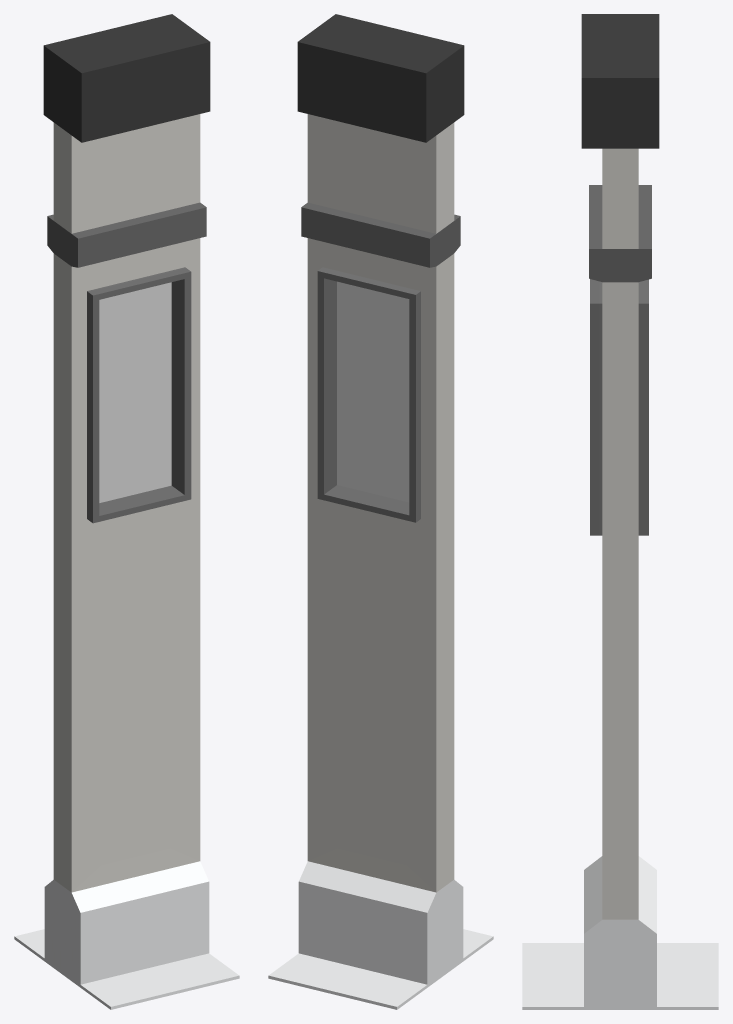
Rendered from Wall-Win-Hi-1sq.fbx.
3 views of the same model, side by side, from view 1: azimuth 30°, elevation 25°; view 2: azimuth 150°, elevation 25°; view 3: azimuth 270°, elevation 25° (orthographic).
Visible parts, largest first — view 1: Wall-Win-Hi-1sq, WinPane2sq.002, WinFrame2sq.002; view 2: Wall-Win-Hi-1sq, WinPane2sq.002, WinFrame2sq.002; view 3: Wall-Win-Hi-1sq, WinFrame2sq.002.
Boxes of the visible parts, bbox=[...] form: Wall-Win-Hi-1sq: bbox=[14, 14, 239, 1009]; WinPane2sq.002: bbox=[99, 282, 171, 502]; WinFrame2sq.002: bbox=[87, 267, 191, 523]; Wall-Win-Hi-1sq: bbox=[268, 14, 493, 1009]; WinPane2sq.002: bbox=[337, 281, 409, 502]; WinFrame2sq.002: bbox=[317, 267, 420, 522]; Wall-Win-Hi-1sq: bbox=[522, 14, 718, 1009]; WinFrame2sq.002: bbox=[590, 279, 648, 535].
Size of the model in its own units: 1.33 by 1.72 by 9.02.
